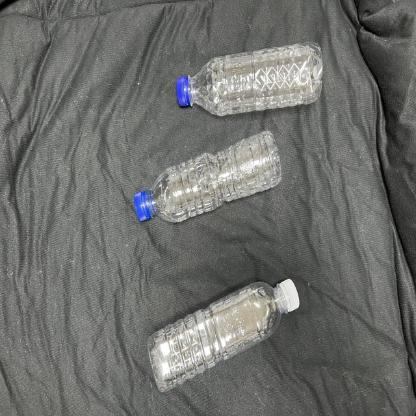Plastic Bottle: (146, 278, 300, 392), (132, 129, 282, 223), (176, 40, 322, 116)
